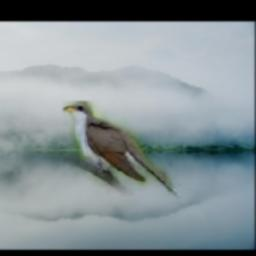Cuckoo: (63, 101, 183, 199)
